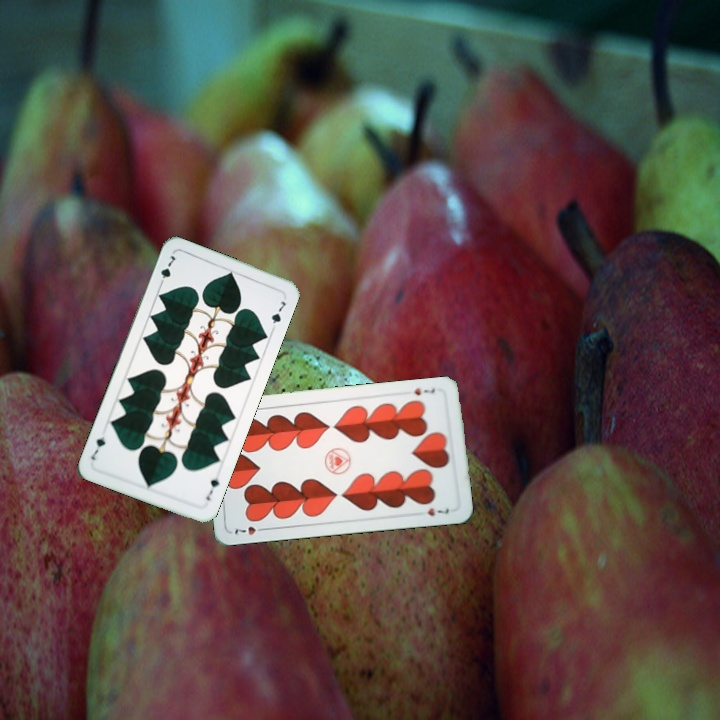G7: (155, 251, 178, 289), (202, 474, 222, 503)
H7: (230, 522, 269, 538), (410, 384, 437, 398)
